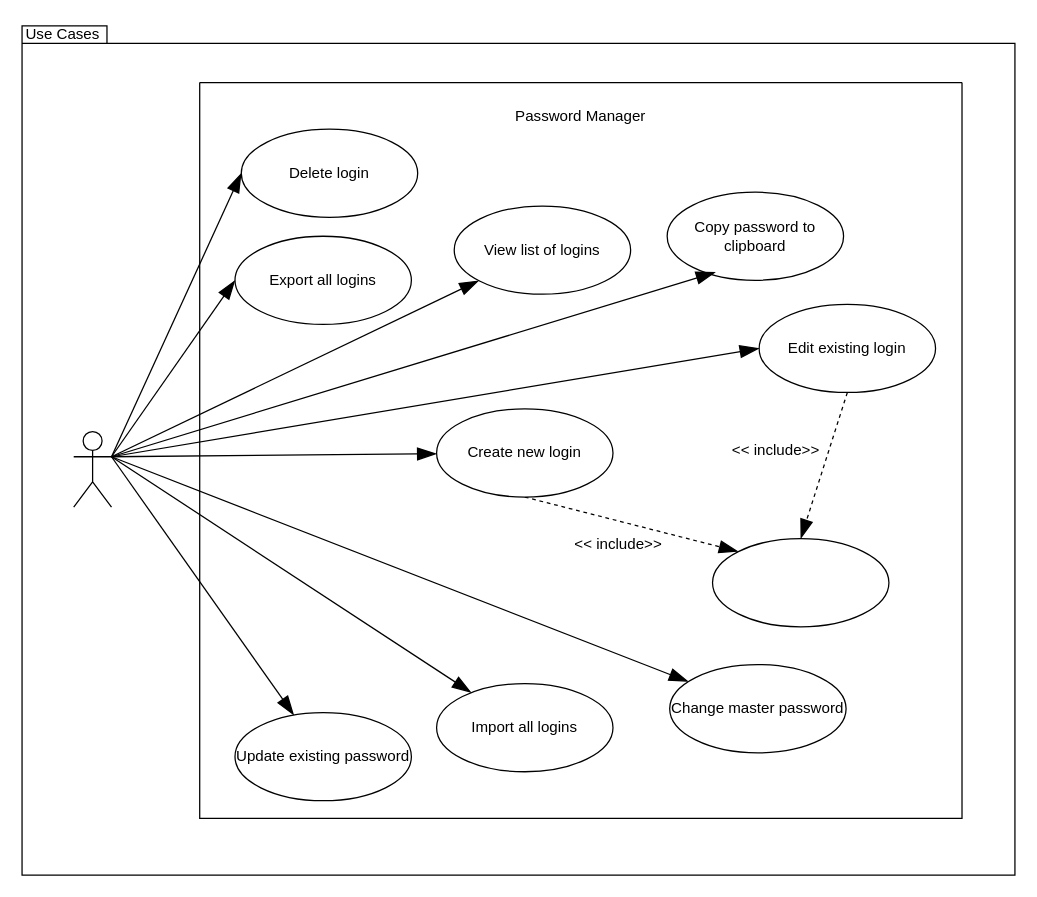
The diagram is 1037 pixels wide and 897 high, and some of its shapes have lost their labels. Each missing label, with the centre of its shape:
"Generate new password" goes at point 800,582.
"User" goes at point 92,468.
